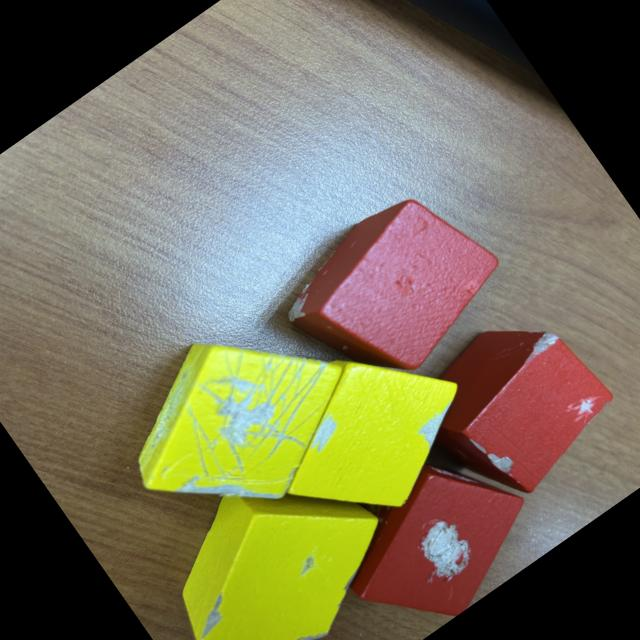broken: (90, 279, 386, 562), (235, 309, 500, 562), (262, 167, 524, 416), (135, 425, 418, 640), (394, 290, 634, 524), (312, 421, 557, 640)
